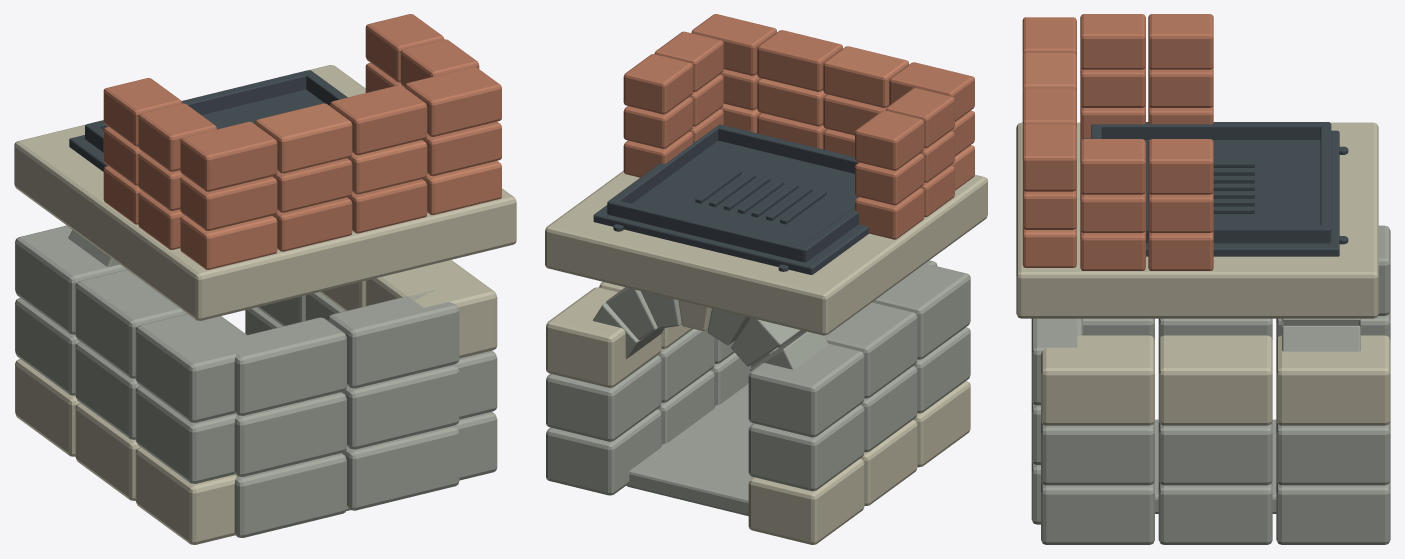
File: forge_masonry_hearth.glb
The picture shows the model from 3 angles, left to right: view 1: azimuth 30°, elevation 25°; view 2: azimuth 150°, elevation 25°; view 3: azimuth 270°, elevation 25°; orthographic projection. The views are drawn at different scales.
Parts seen in each view (by area): view 1: Hearth bearing slab, Dressed pier course.012, Back wall course.004, Back wall course.005, Back wall course.001, Back wall course.003, Back wall course.002, Back wall course, Dressed pier course.013, Dressed pier course, Dressed pier course.006, Dressed pier course.015 (+35 smaller); view 2: Hearth bearing slab, Cold pan, Ash chamber floor, Dressed pier course.014, Dressed pier course.017, Dressed pier course.008, Dressed pier course.002, Dressed pier course.011, Dressed pier course.005, Dressed pier course.012, Dressed pier course.013, Brick fire back.009 (+41 smaller); view 3: Hearth bearing slab, Cold pan, Dressed pier course.016, Dressed pier course.015, Dressed pier course.017, Dressed pier course.010, Dressed pier course.011, Dressed pier course.009, Dressed pier course.005, Dressed pier course.004, Dressed pier course.003, Brick fire back.011 (+30 smaller).
Part boxes in pixels (x1,y1,x2,y2): Hearth bearing slab: [14, 65, 516, 320]; Dressed pier course.012: [135, 313, 246, 422]; Back wall course.004: [221, 317, 346, 415]; Back wall course.005: [327, 290, 459, 388]; Back wall course.001: [342, 425, 459, 510]; Back wall course.003: [342, 364, 459, 449]; Back wall course.002: [234, 392, 346, 476]; Back wall course: [234, 453, 346, 537]; Dressed pier course.013: [75, 269, 186, 378]; Dressed pier course: [135, 447, 236, 544]; Dressed pier course.006: [135, 386, 236, 483]; Dressed pier course.015: [365, 260, 497, 358]; Hearth bearing slab: [545, 171, 987, 335]; Cold pan: [593, 140, 868, 274]; Ash chamber floor: [626, 384, 752, 515]; Dressed pier course.014: [748, 343, 864, 437]; Dressed pier course.017: [546, 287, 661, 387]; Dressed pier course.008: [748, 405, 864, 491]; Dressed pier course.002: [748, 459, 864, 544]; Dressed pier course.011: [546, 355, 661, 441]; Dressed pier course.005: [546, 409, 661, 495]; Dressed pier course.012: [872, 264, 970, 359]; Dressed pier course.013: [825, 302, 917, 398]; Brick fire back.009: [823, 46, 908, 107]; Hearth bearing slab: [1016, 122, 1378, 318]; Cold pan: [1083, 130, 1339, 256]; Dressed pier course.016: [1158, 335, 1272, 425]; Dressed pier course.015: [1041, 335, 1154, 425]; Dressed pier course.017: [1276, 335, 1390, 425]; Dressed pier course.010: [1158, 421, 1272, 485]; Dressed pier course.011: [1276, 421, 1390, 485]; Dressed pier course.009: [1041, 421, 1154, 485]; Dressed pier course.005: [1276, 480, 1390, 544]; Dressed pier course.004: [1158, 481, 1272, 544]; Dressed pier course.003: [1041, 481, 1154, 544]; Brick fire back.011: [1022, 124, 1076, 191].
Bounding box in the file's own units: 1.2 × 1.43 × 1.24.
